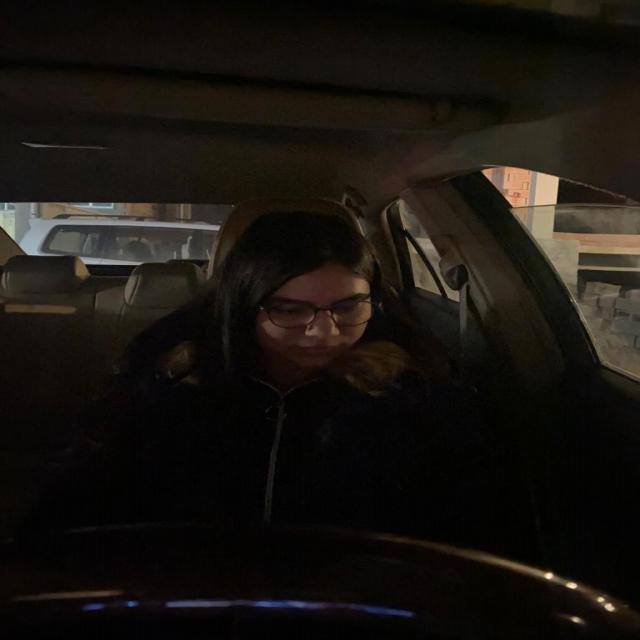drowsy: (200, 228, 406, 390)
